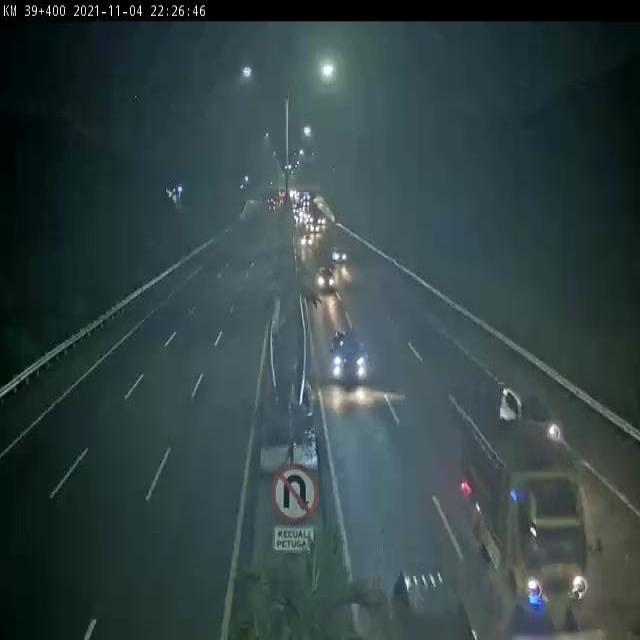car: (393, 561, 481, 640), (327, 322, 370, 382)
truck-m-: (469, 411, 602, 593)
